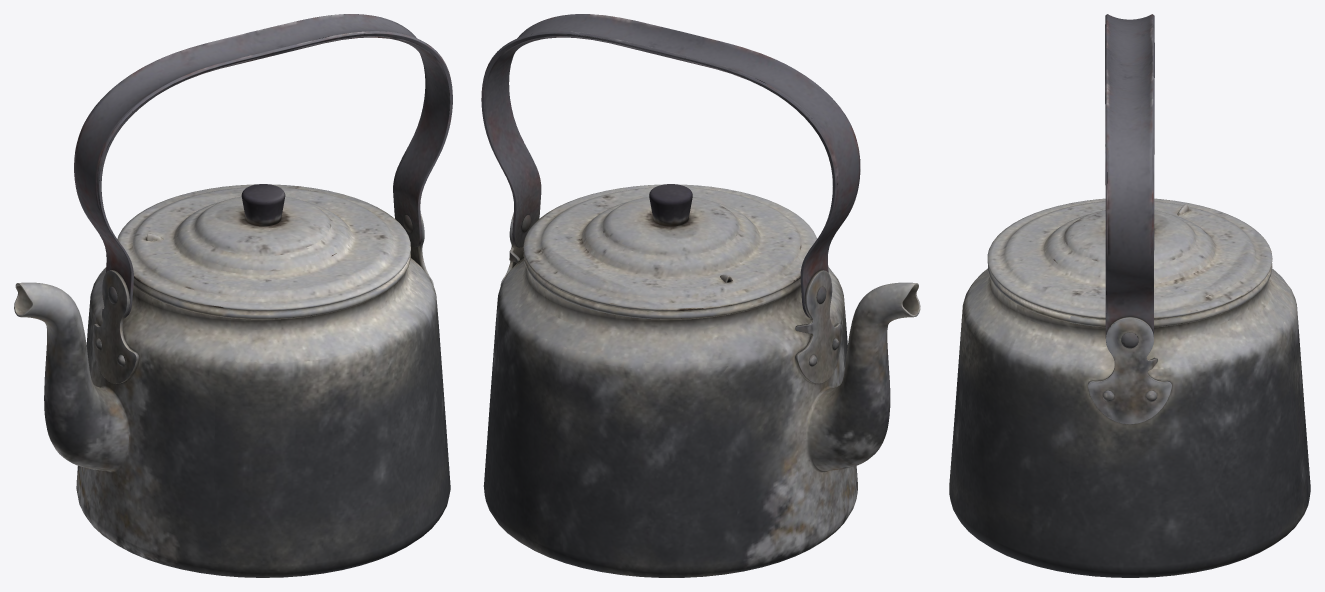
File: obj_teapot_old_2_100517_46376f.glb
3 renders of one model, left to right at view 1: azimuth 30°, elevation 25°; view 2: azimuth 150°, elevation 25°; view 3: azimuth 270°, elevation 25°, orthographic. The views are drawn at different scales.
Visible parts, largest first — view 1: obj_teapot_old_2_100517_46376f; view 2: obj_teapot_old_2_100517_46376f; view 3: obj_teapot_old_2_100517_46376f.
Part boxes in pixels (box(x1,y1,x2,y2)): obj_teapot_old_2_100517_46376f: box(14, 14, 452, 577); obj_teapot_old_2_100517_46376f: box(481, 14, 920, 577); obj_teapot_old_2_100517_46376f: box(949, 14, 1310, 577).
Bounding box in the file's own units: 0.2389 × 0.25 × 0.1823.
Materials: 1 (1 with a texture image).
